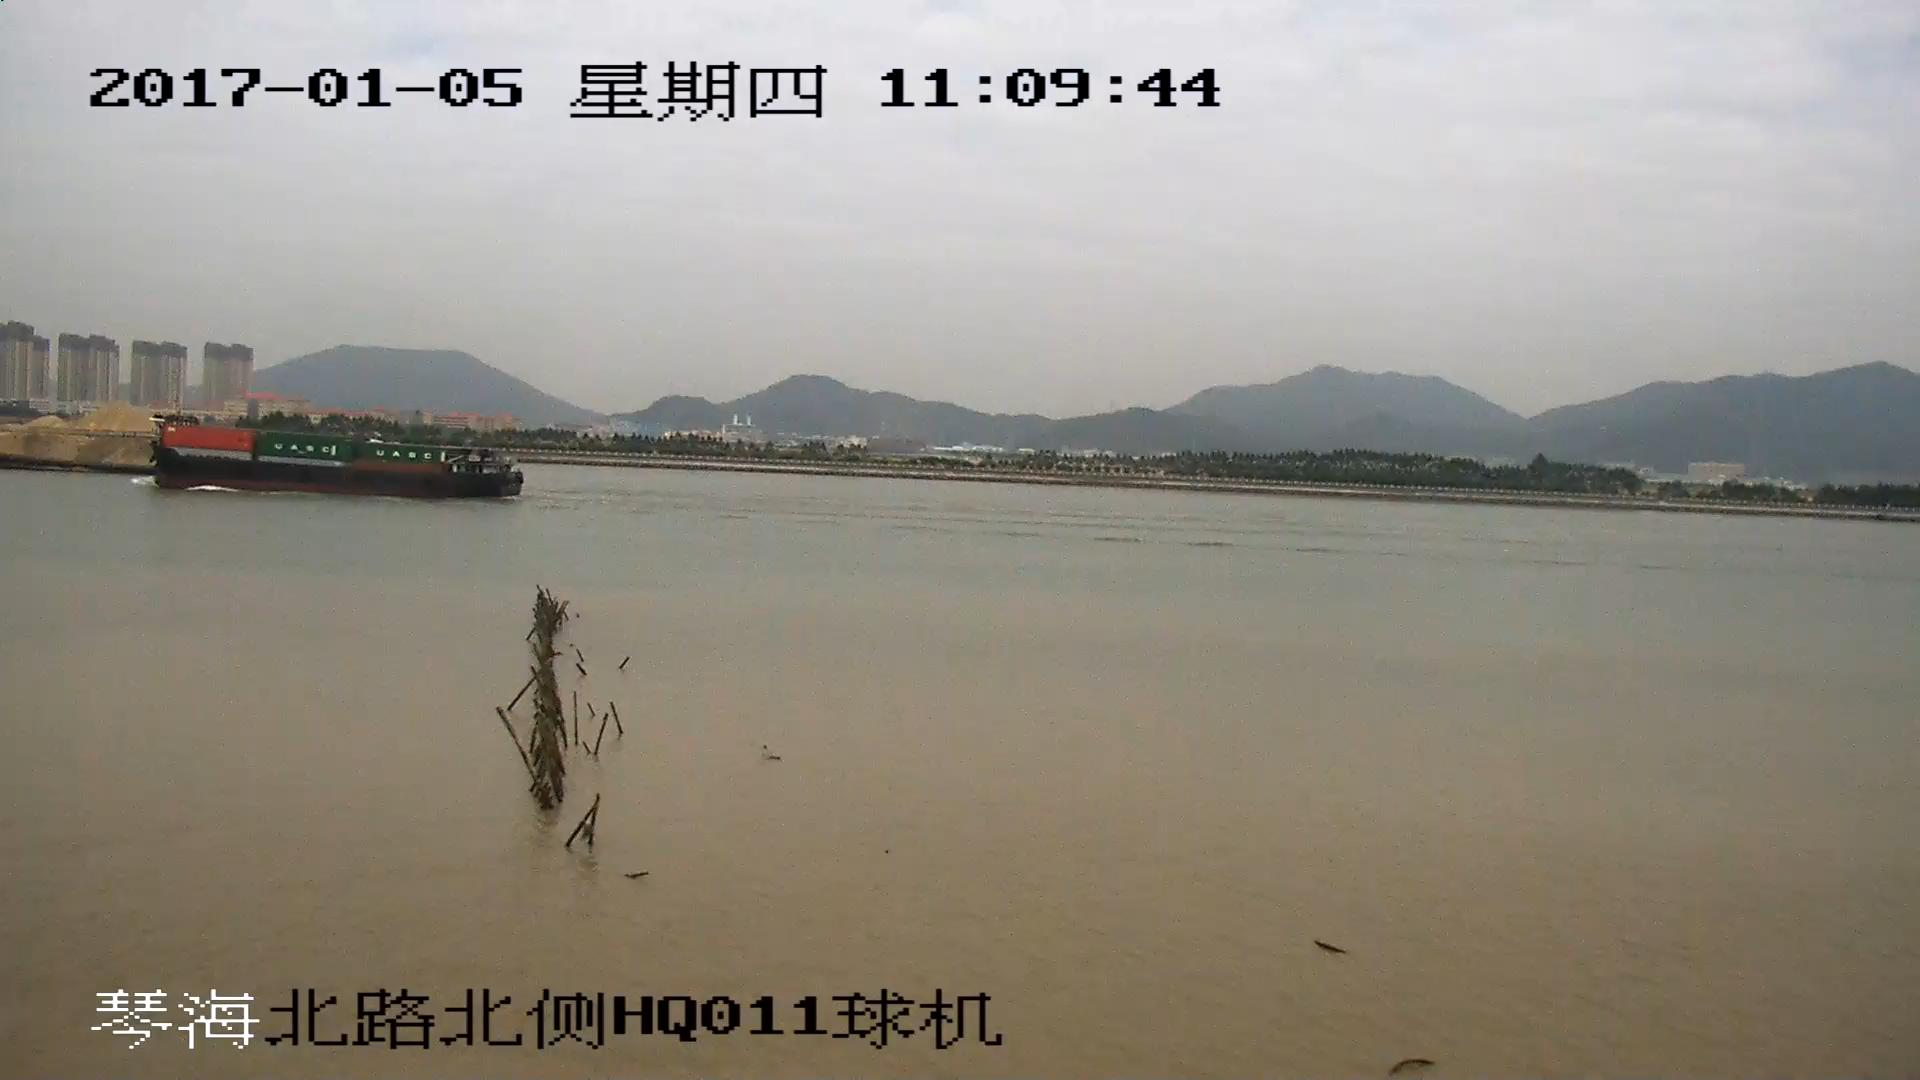container ship: (146, 423, 524, 498)
ore carrier: (1, 432, 141, 477)
